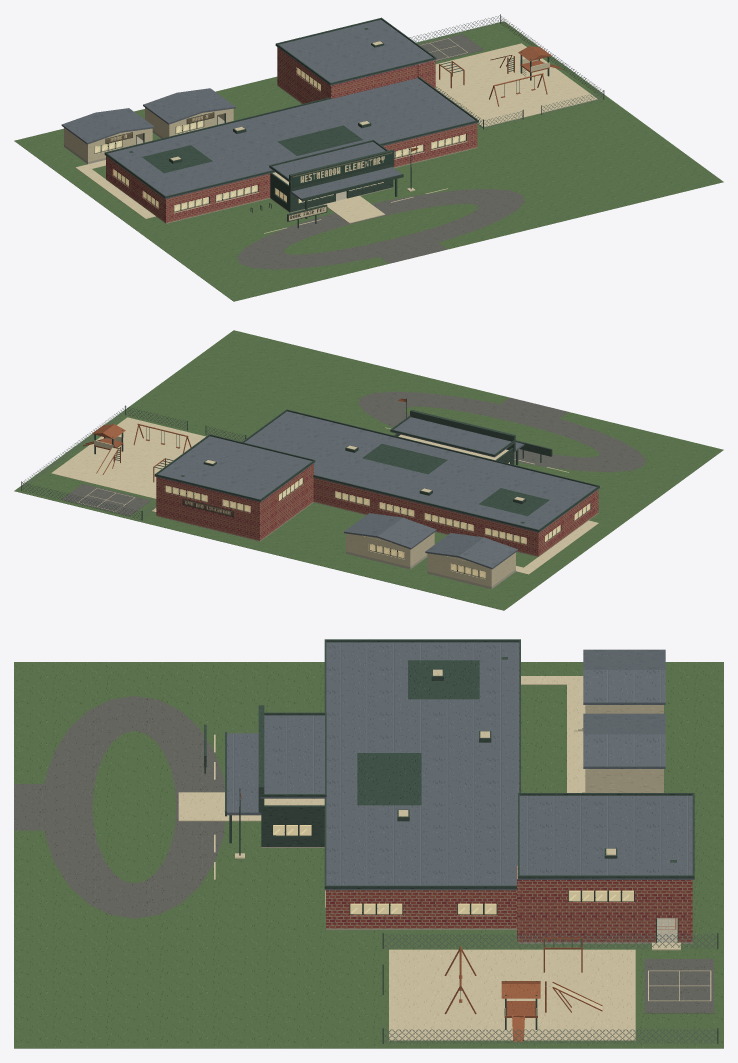
File: westmeadow-1990-mid.glb
3 renders of one model, top to bottom at view 1: azimuth 30°, elevation 25°; view 2: azimuth 150°, elevation 25°; view 3: azimuth 270°, elevation 25°, orthographic. The views are drawn at different scales.
Visible parts, largest first — view 1: lot, building_shell, portable_a, portable_b, sign_name; view 2: lot, building_shell, portable_a, portable_b; view 3: lot, building_shell, portable_b, portable_a.
Part boxes in pixels (x1,y1,x2,y2): lot: (14,14,723,301); building_shell: (104,17,478,223); portable_a: (61,108,154,163); portable_b: (143,88,235,138); sign_name: (292,152,392,187); lot: (14,330,723,610); building_shell: (152,409,599,556); portable_a: (425,533,517,589); portable_b: (344,513,436,569); lot: (14,662,723,1048); building_shell: (225,639,694,950); portable_b: (574,713,665,792); portable_a: (574,649,665,731).
Size of what is drawn, in the model's own units: 85 by 7.14 by 66.
11 materials, 11 textured.
